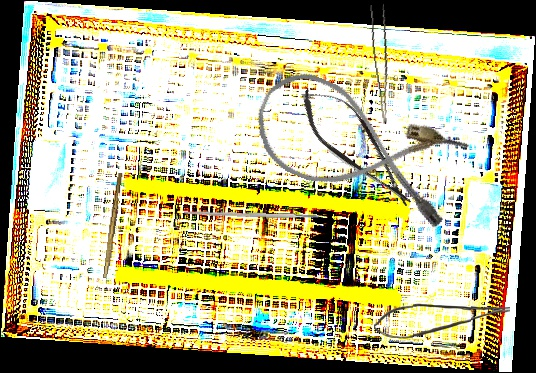Cannula: (240, 60, 475, 235)
Micro Scissor: (288, 74, 427, 220), (373, 301, 511, 341)
Scalpel Handle: (103, 172, 123, 279), (183, 209, 320, 221)
Tissue Forceps: (366, 3, 401, 125)
